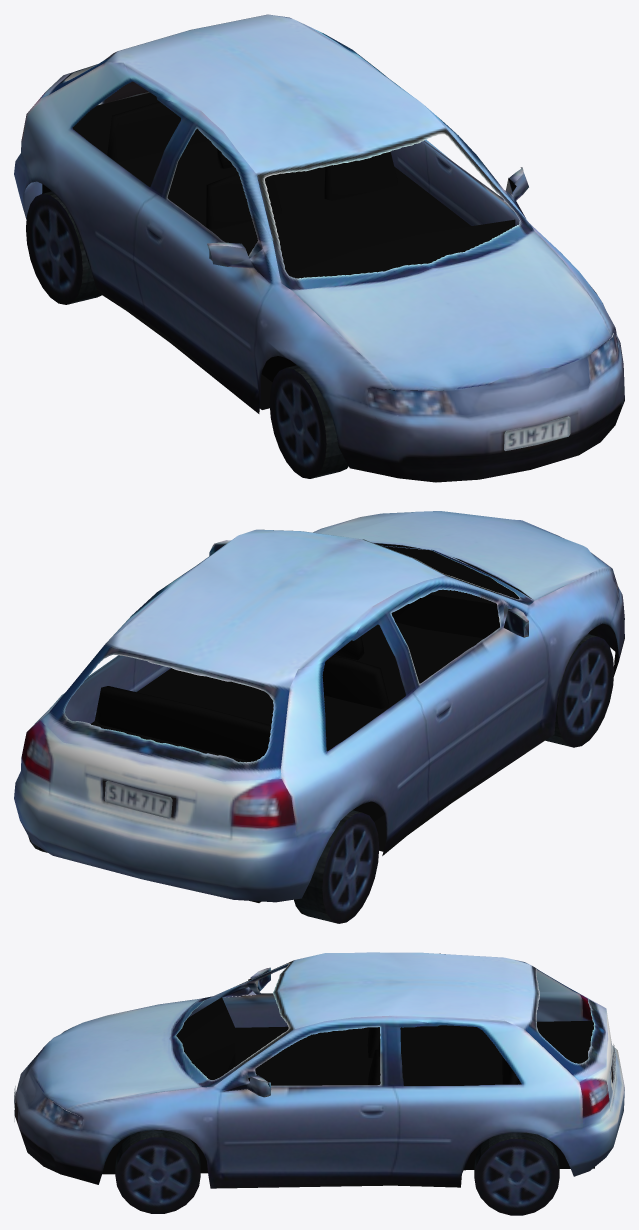
File: lwpg001.obj
3 views of the same model, one above another, from view 1: azimuth 30°, elevation 25°; view 2: azimuth 150°, elevation 25°; view 3: azimuth 270°, elevation 25° (orthographic). The views are drawn at different scales.
Visible parts, largest first — view 1: lwpg001; view 2: lwpg001; view 3: lwpg001.
Boxes of the visible parts, bbox=[...] form: lwpg001: bbox=[14, 14, 624, 482]; lwpg001: bbox=[14, 511, 624, 923]; lwpg001: bbox=[14, 952, 624, 1215].
Size of the model in its own units: 1.93 by 1.39 by 4.29.
Materials: 2 (1 with a texture image).
